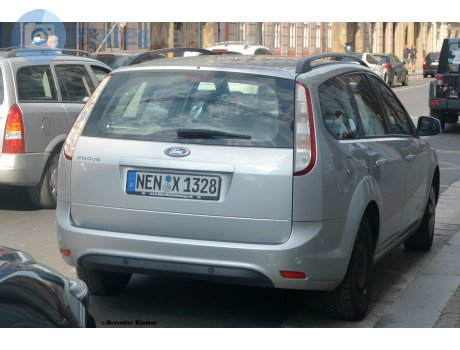License Plates: (136, 173, 217, 194)
